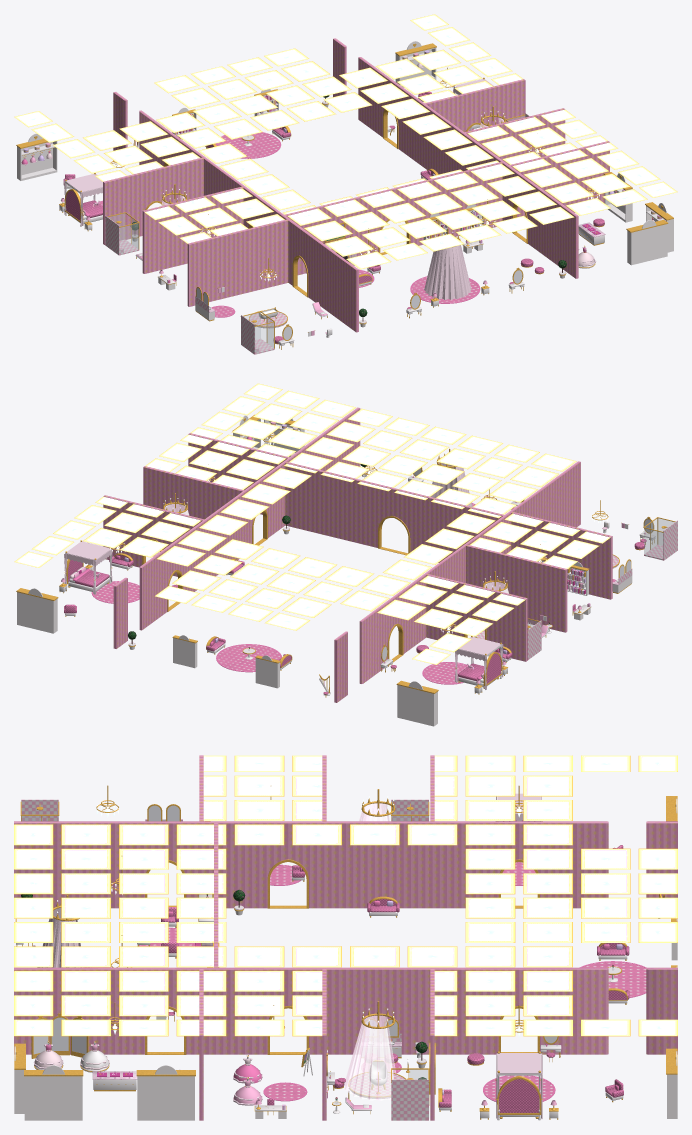
Rendered from citadel_floor1.glb.
3 views of the same model, one above another, from view 1: azimuth 30°, elevation 25°; view 2: azimuth 150°, elevation 25°; view 3: azimuth 270°, elevation 25° (orthographic). The views are drawn at different scales.
Parts seen in each view (by area): view 1: floor1_sky_cards, floor1_wallpaper, floor1_white_wood, floor1_gold, floor1_tulle, floor1_tile, floor1_carpet, floor1_tufted, floor1_glass_clear, floor1_satin_rose, floor1_satin_pink; view 2: floor1_sky_cards, floor1_wallpaper, floor1_white_wood, floor1_gold, floor1_carpet, floor1_tulle, floor1_tufted, floor1_tile, floor1_glass_clear, floor1_satin_rose; view 3: floor1_sky_cards, floor1_wallpaper, floor1_white_wood, floor1_gold, floor1_tile, floor1_sheer, floor1_tufted, floor1_carpet, floor1_tulle, floor1_mirror, floor1_satin_rose, floor1_satin_white (+2 smaller).
Boxes of the visible parts, x1=… form: floor1_sky_cards: x1=14, y1=14, x2=677, y2=269; floor1_wallpaper: x1=103, y1=38, x2=609, y2=332; floor1_white_wood: x1=17, y1=41, x2=673, y2=345; floor1_gold: x1=16, y1=43, x2=673, y2=349; floor1_tulle: x1=21, y1=66, x2=653, y2=299; floor1_tile: x1=105, y1=113, x2=529, y2=354; floor1_carpet: x1=99, y1=129, x2=478, y2=316; floor1_tufted: x1=63, y1=91, x2=604, y2=343; floor1_glass_clear: x1=108, y1=116, x2=595, y2=353; floor1_satin_rose: x1=21, y1=92, x2=653, y2=317; floor1_satin_pink: x1=30, y1=53, x2=662, y2=335; floor1_sky_cards: x1=14, y1=383, x2=610, y2=664; floor1_wallpaper: x1=103, y1=407, x2=612, y2=702; floor1_white_wood: x1=17, y1=415, x2=655, y2=726; floor1_gold: x1=16, y1=414, x2=675, y2=697; floor1_carpet: x1=93, y1=503, x2=615, y2=683; floor1_tulle: x1=64, y1=431, x2=503, y2=689; floor1_tufted: x1=64, y1=507, x2=646, y2=694; floor1_tile: x1=154, y1=520, x2=677, y2=659; floor1_glass_clear: x1=248, y1=476, x2=674, y2=663; floor1_satin_rose: x1=72, y1=436, x2=645, y2=685; floor1_sky_cards: x1=14, y1=755, x2=677, y2=1036; floor1_wallpaper: x1=14, y1=755, x2=677, y2=1120; floor1_white_wood: x1=14, y1=797, x2=677, y2=1120; floor1_gold: x1=14, y1=785, x2=677, y2=1119; floor1_tile: x1=21, y1=799, x2=428, y2=1120; floor1_sheer: x1=344, y1=803, x2=395, y2=1100; floor1_tufted: x1=81, y1=820, x2=629, y2=1112; floor1_carpet: x1=92, y1=862, x2=646, y2=1100; floor1_tulle: x1=33, y1=793, x2=542, y2=1118; floor1_mirror: x1=33, y1=805, x2=557, y2=1054; floor1_satin_rose: x1=45, y1=864, x2=646, y2=1109; floor1_satin_white: x1=81, y1=1041, x2=420, y2=1108.
Bounding box in the file's own units: 46 × 6.51 × 46.
Materials: 39 (13 with a texture image).
